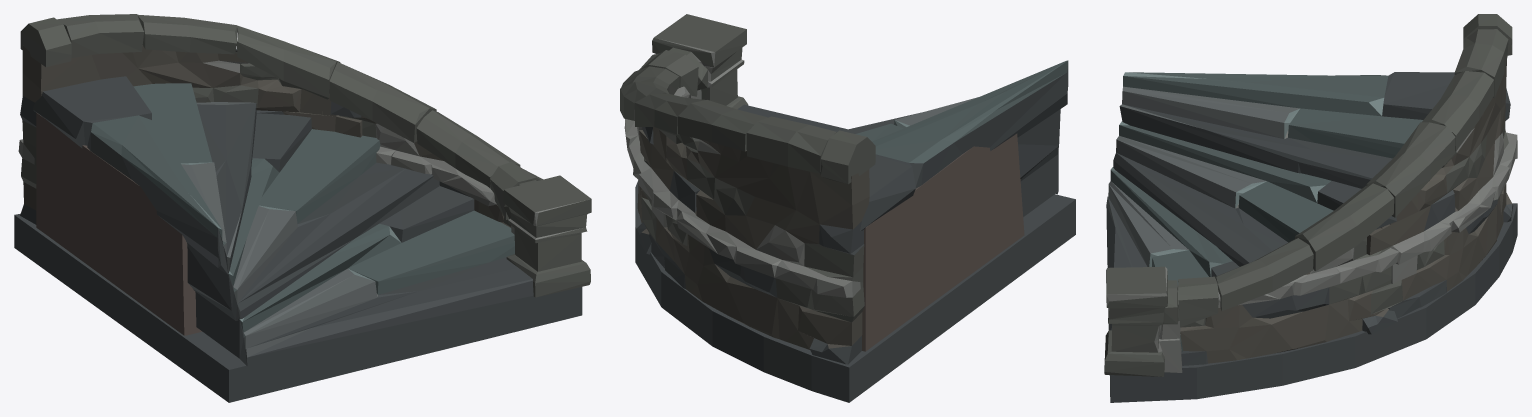
The model's file is MDungeons_Steps_Curved_90_Alt_02.FBX.
3 views of the same model, side by side, from view 1: azimuth 30°, elevation 25°; view 2: azimuth 150°, elevation 25°; view 3: azimuth 270°, elevation 25° (orthographic). The views are drawn at different scales.
Visible parts, largest first — view 1: MDungeons_Steps_Curved_90_Alt_02_LOD0; view 2: MDungeons_Steps_Curved_90_Alt_02_LOD0; view 3: MDungeons_Steps_Curved_90_Alt_02_LOD0.
Boxes of the visible parts, x1,y1,x2,y2 form: MDungeons_Steps_Curved_90_Alt_02_LOD0: (14, 14, 591, 402); MDungeons_Steps_Curved_90_Alt_02_LOD0: (620, 14, 1075, 402); MDungeons_Steps_Curved_90_Alt_02_LOD0: (1104, 14, 1517, 402).
Size of what is drawn, in the model's own units: 5.83 by 3.53 by 5.94.
